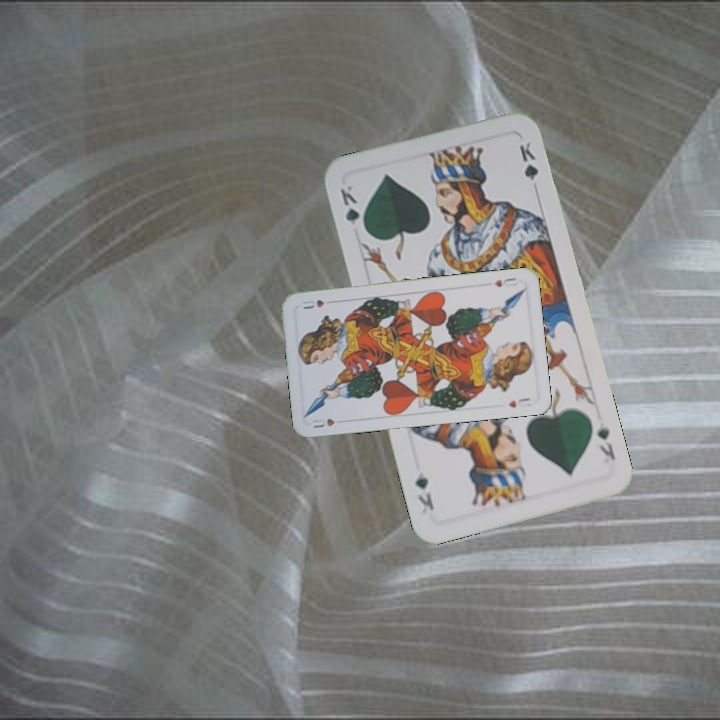GK: (336, 181, 369, 236), (592, 418, 618, 463)
HU: (307, 414, 337, 430), (490, 274, 519, 289)
